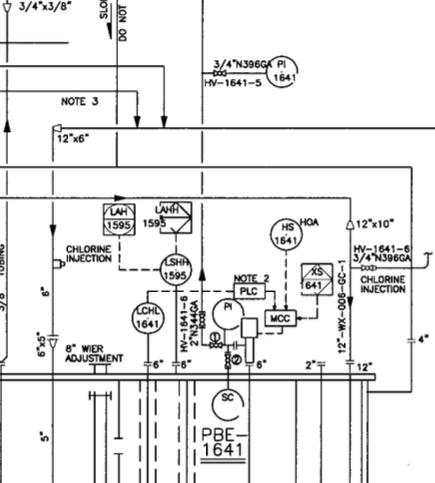Instrument-offset: (264, 209, 306, 255), (157, 250, 194, 289), (261, 53, 301, 88), (130, 298, 167, 335)
Instrument-square-offset: (142, 199, 199, 240), (294, 257, 336, 298), (98, 201, 140, 238)
